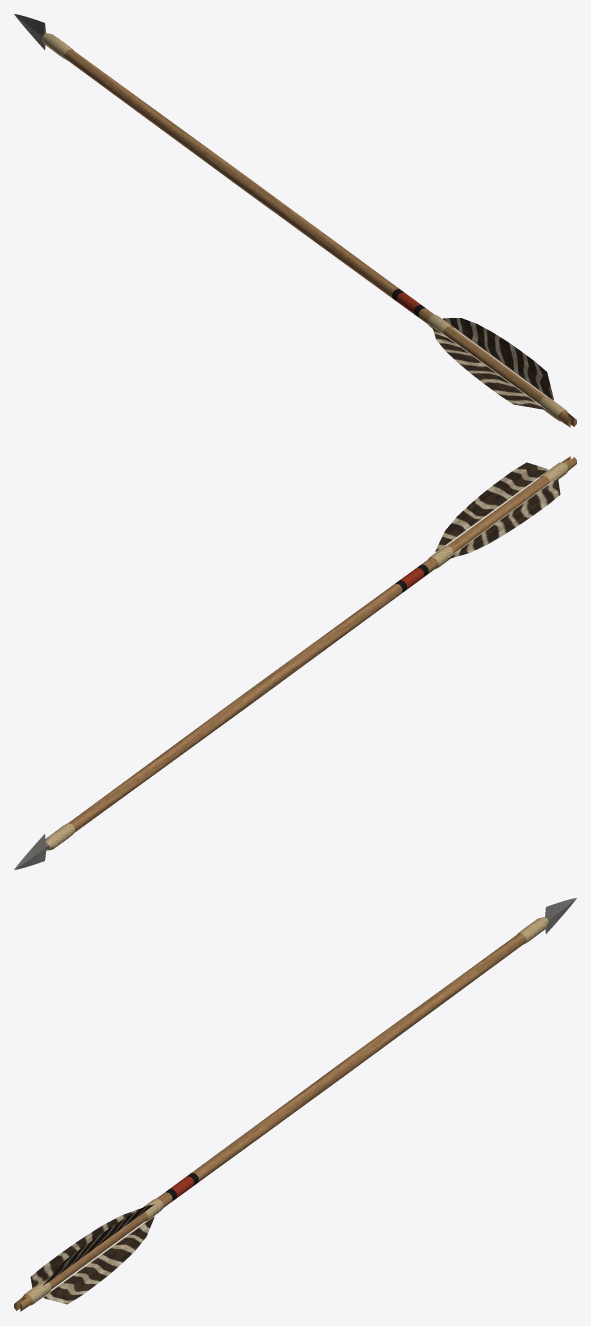
File: arrow.glb
3 views of the same model, one above another, from view 1: azimuth 30°, elevation 25°; view 2: azimuth 150°, elevation 25°; view 3: azimuth 330°, elevation 25° (orthographic).
Parts seen in each view (by area): view 1: Arrow; view 2: Arrow; view 3: Arrow.
Boxes of the visible parts, box(x1,y1,x2,y2) form: Arrow: box(14, 14, 576, 427); Arrow: box(14, 456, 576, 869); Arrow: box(14, 898, 576, 1311).
Bounding box in the file's own units: 0.0287 × 0.032 × 0.72.
2 materials, 1 textured.
